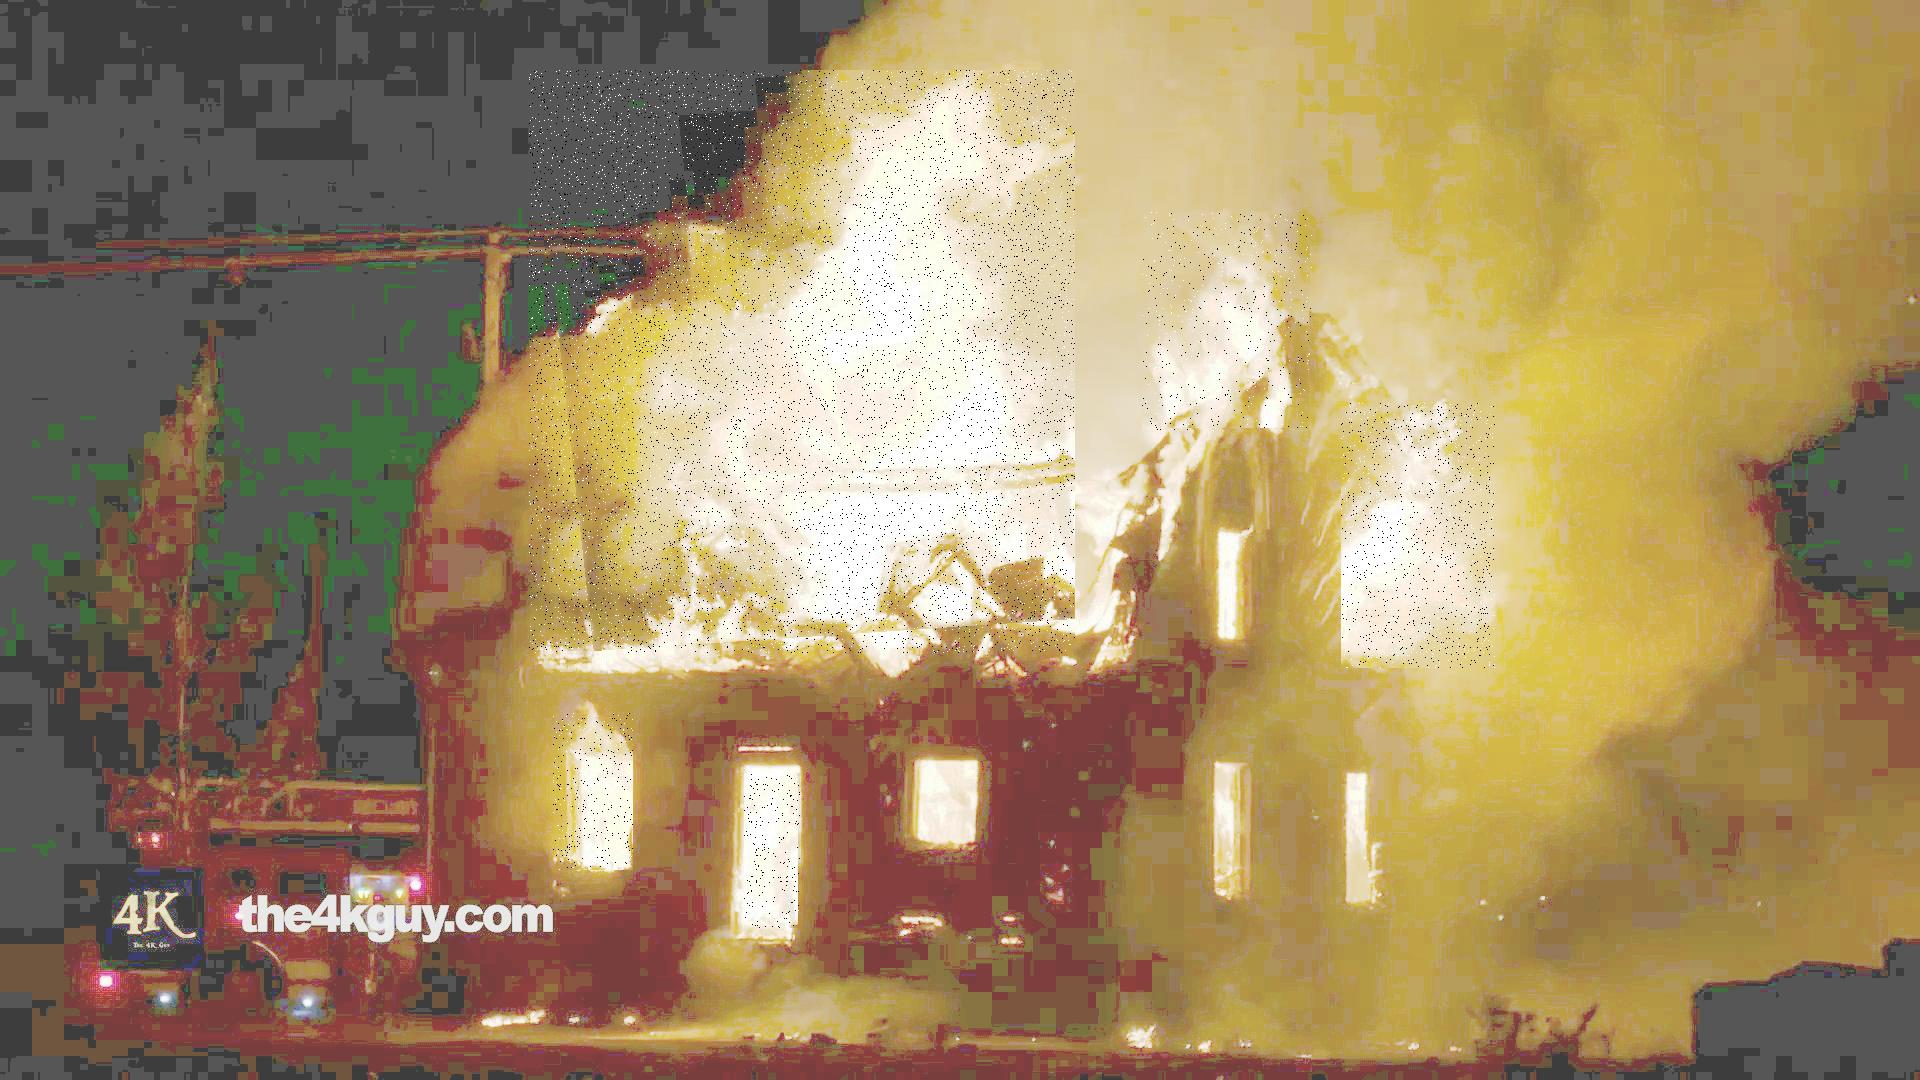fire: (529, 71, 1075, 654), (1341, 404, 1495, 669), (1143, 212, 1313, 431), (553, 713, 633, 870), (745, 773, 800, 928)
